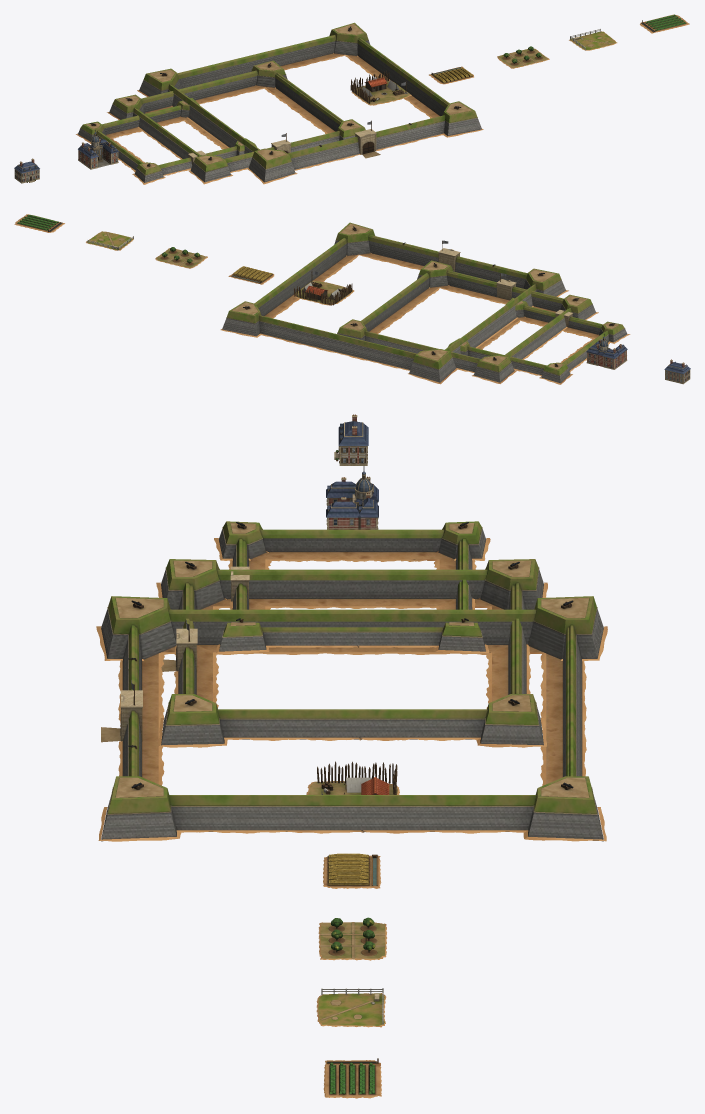
Rendered from shared-gunpowder.glb.
3 views of the same model, one above another, from view 1: azimuth 30°, elevation 25°; view 2: azimuth 150°, elevation 25°; view 3: azimuth 270°, elevation 25° (orthographic). The views are drawn at different scales.
Visible parts, largest first — view 1: LOD0.004, LOD0.003, LOD0.002, LOD0.005, LOD0.001, LOD0.007, LOD0.008, LOD0.009, LOD0.006, LOD0; view 2: LOD0.004, LOD0.003, LOD0.002, LOD0.005, LOD0.001, LOD0.007, LOD0.008, LOD0.009, LOD0.006, LOD0; view 3: LOD0.004, LOD0.003, LOD0.002, LOD0.007, LOD0.001, LOD0.008, LOD0.005, LOD0.009, LOD0.006, LOD0.
Boxes of the visible parts, box(x1,y1,x2,y2) form: LOD0.004: box(137, 22, 483, 184); LOD0.003: box(107, 60, 365, 184); LOD0.002: box(76, 98, 256, 184); LOD0.005: box(350, 71, 411, 105); LOD0.001: box(78, 130, 118, 169); LOD0.007: box(497, 46, 549, 68); LOD0.008: box(569, 28, 617, 50); LOD0.009: box(640, 14, 689, 33); LOD0.006: box(429, 66, 473, 84); LOD0: box(14, 158, 39, 183); LOD0.004: box(220, 222, 568, 384); LOD0.003: box(337, 260, 598, 383); LOD0.002: box(447, 298, 630, 384); LOD0.005: box(294, 271, 354, 305); LOD0.001: box(586, 334, 627, 369); LOD0.007: box(155, 247, 207, 268); LOD0.008: box(86, 231, 133, 250); LOD0.009: box(14, 214, 64, 232); LOD0.006: box(228, 266, 274, 284); LOD0: box(664, 359, 690, 384); LOD0.004: box(96, 596, 607, 841); LOD0.003: box(156, 559, 547, 747); LOD0.002: box(214, 521, 490, 653); LOD0.007: box(318, 917, 386, 960); LOD0.001: box(326, 466, 378, 529); LOD0.008: box(316, 988, 386, 1027); LOD0.005: box(306, 761, 399, 794); LOD0.009: box(323, 1058, 381, 1098); LOD0.006: box(323, 853, 381, 888); LOD0: box(334, 414, 368, 465).
Size of what is drawn, in the model's own units: 28.25 by 1.25 by 9.46.
3 materials, 3 textured.
